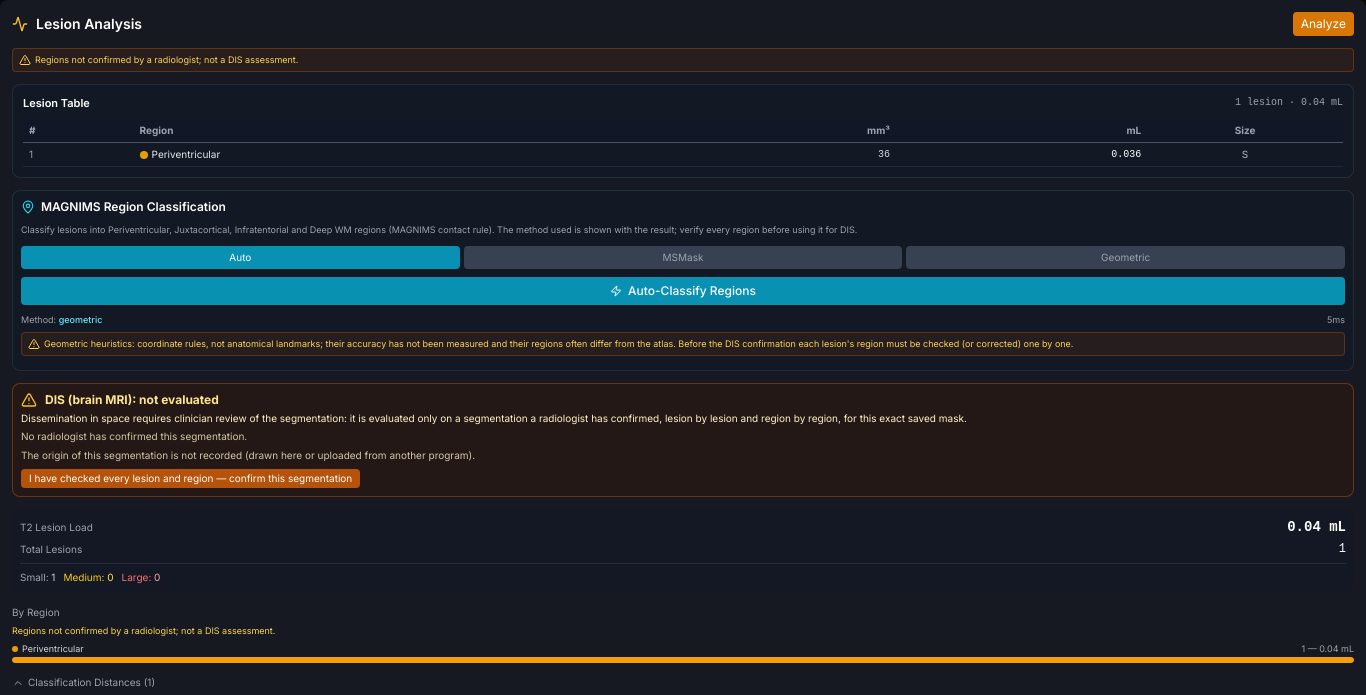
Scenario: m5 / m7: the failure paths of the confirmation › rc071 release2 m7 a refused confirmation never says "recorded" (positive control of F10)
The width and height of the screenshot is (1366, 695).
Click the button "confirm this segmentation": (191, 479) [21,469,360,488]
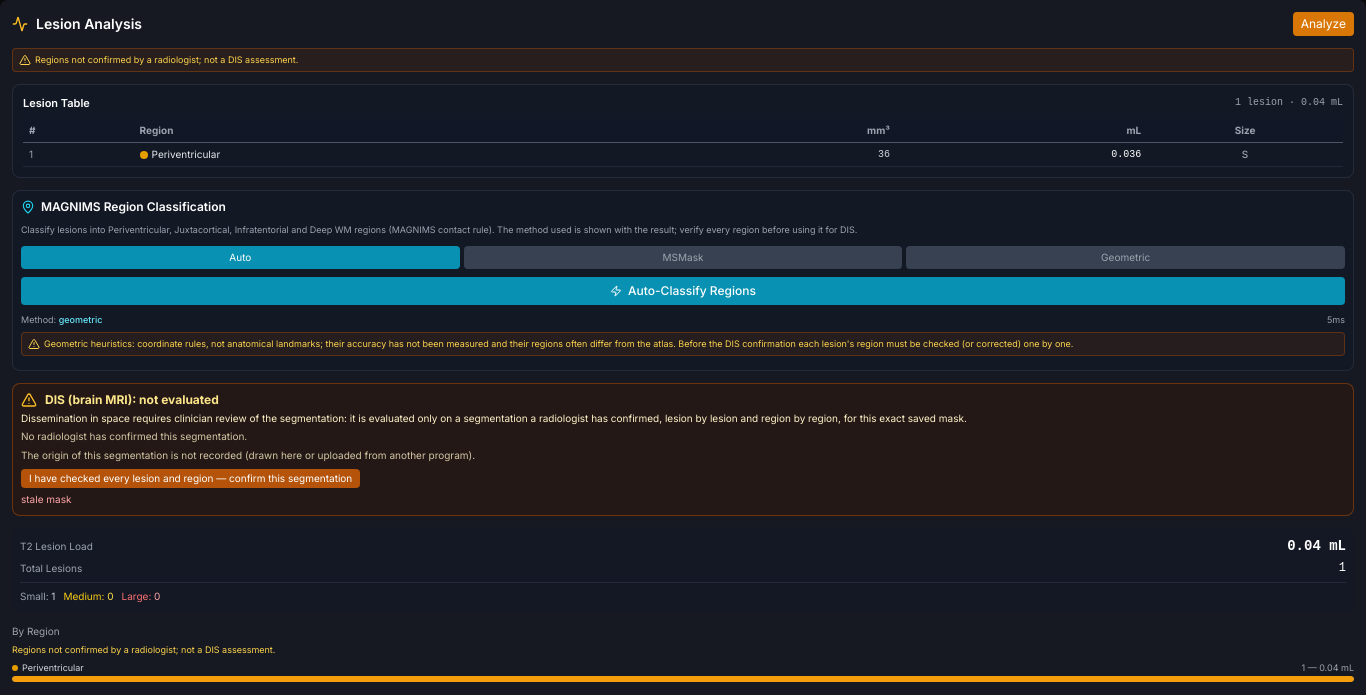
Now the text "stale mask" is shown, box [21,493,71,505]
